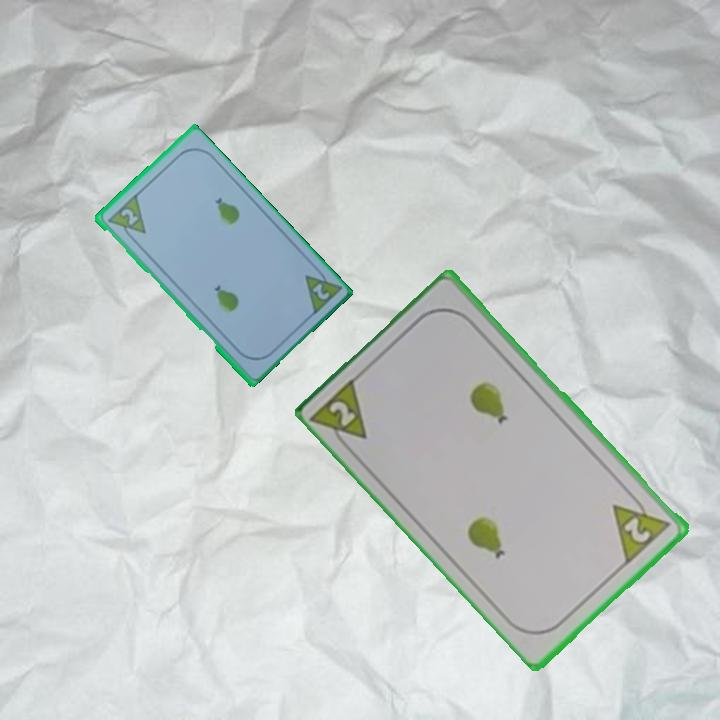2p: (609, 487, 674, 567), (309, 373, 371, 455), (308, 279, 332, 303), (117, 205, 141, 228)
